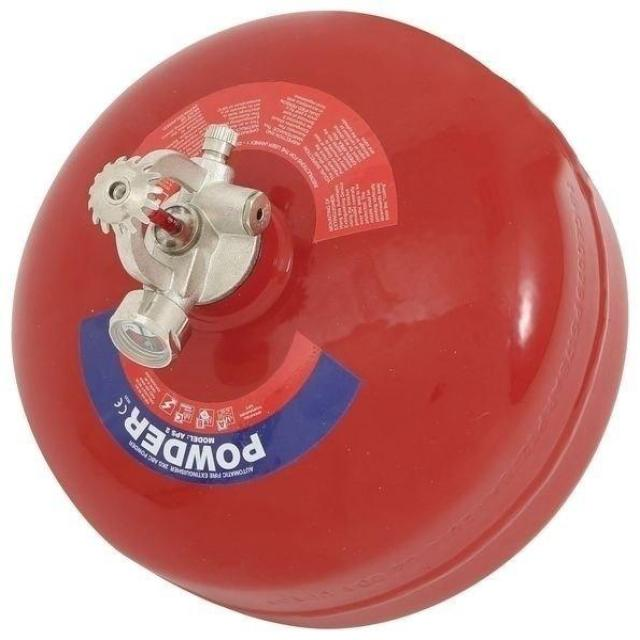fire_extinguisher: (0, 2, 634, 637)
